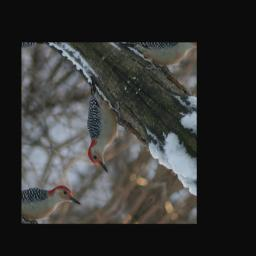Woodpecker: (52, 77, 147, 176)
